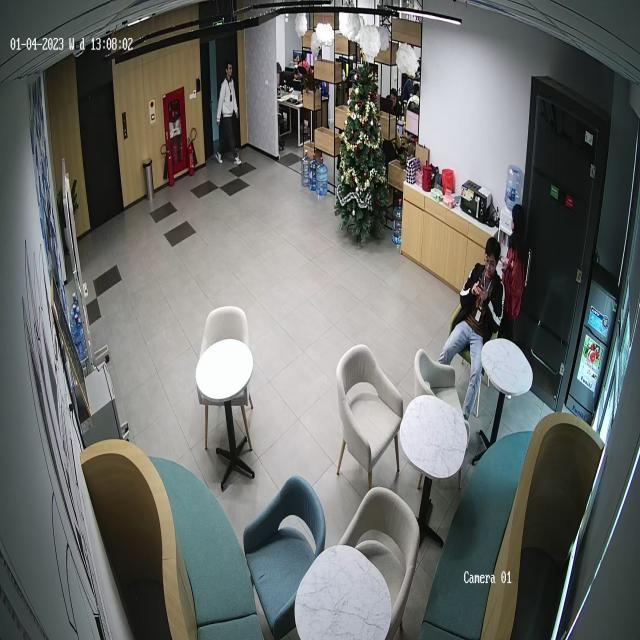person: (439, 237, 504, 423), (501, 202, 529, 334), (216, 62, 241, 165)
